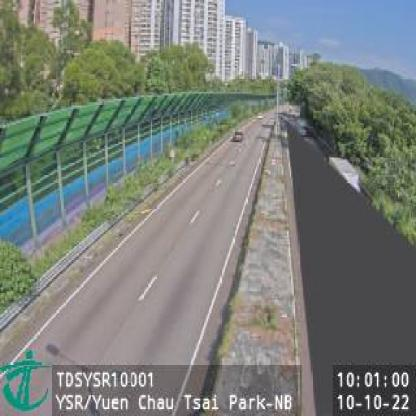Car: (232, 132, 242, 142)
